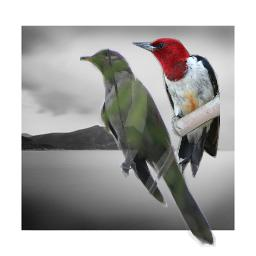Cuckoo: (80, 48, 221, 248)
Woodpecker: (132, 37, 220, 178)
